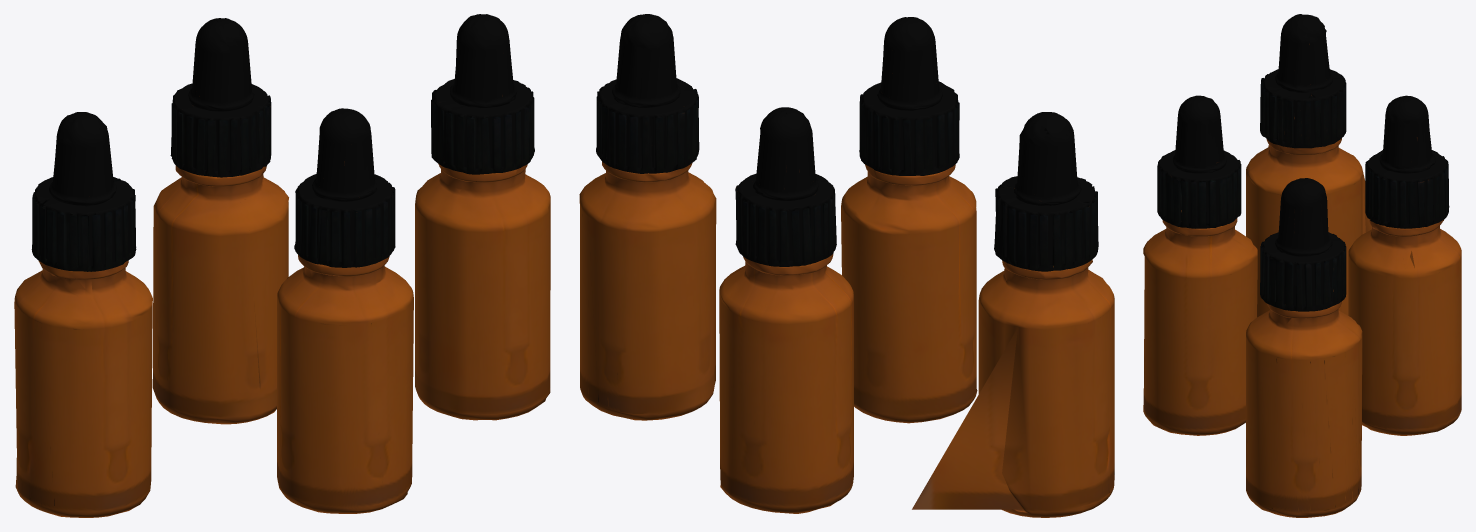
File: DropperBottlesSet.glb
The picture shows the model from 3 angles, left to right: view 1: azimuth 30°, elevation 25°; view 2: azimuth 150°, elevation 25°; view 3: azimuth 270°, elevation 25°; orthographic projection. The views are drawn at different scales.
Parts seen in each view (by area): view 1: geometry_0; view 2: geometry_0; view 3: geometry_0.
Part boxes in pixels (box(x1,y1,x2,y2)): geometry_0: box(14, 14, 550, 517); geometry_0: box(579, 14, 1114, 517); geometry_0: box(1143, 14, 1461, 517).
Size of the model in its own units: 0.9497 by 0.6646 by 0.604.
1 material, 1 textured.
